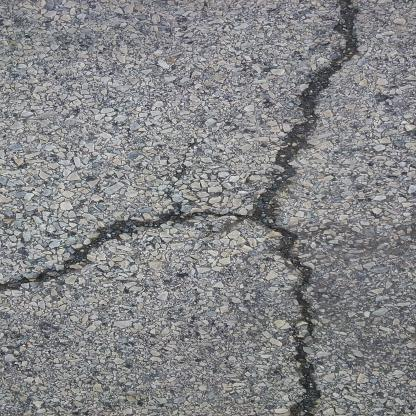Cracks: (252, 0, 372, 415), (0, 203, 291, 293)
